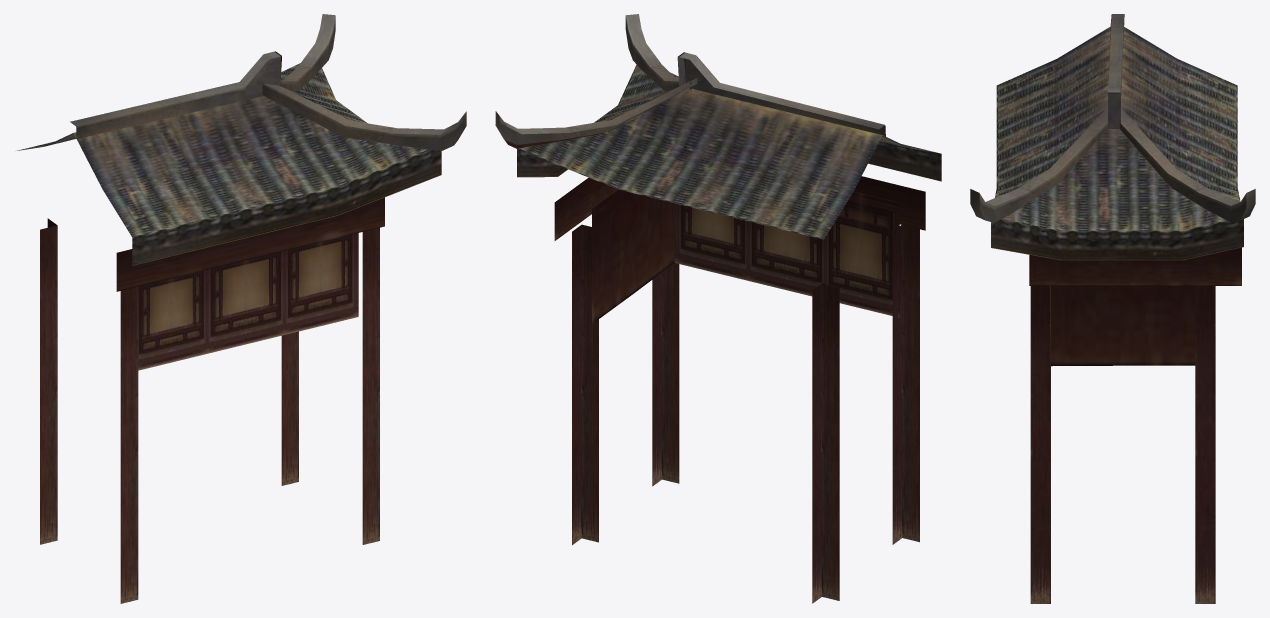
The model's file is yw_dunhuang_zhujian03.FBX.
3 renders of one model, left to right at view 1: azimuth 30°, elevation 25°; view 2: azimuth 150°, elevation 25°; view 3: azimuth 270°, elevation 25°, orthographic. The views are drawn at different scales.
Visible parts, largest first — view 1: yw_dunhuang_zhujian03; view 2: yw_dunhuang_zhujian03; view 3: yw_dunhuang_zhujian03.
Boxes of the visible parts, <box> form: yw_dunhuang_zhujian03: <box>17,14,466,603</box>; yw_dunhuang_zhujian03: <box>495,14,941,603</box>; yw_dunhuang_zhujian03: <box>970,14,1255,603</box>.
Bounding box in the file's own units: 462 × 639 × 344.
Materials: 1 (1 with a texture image).
